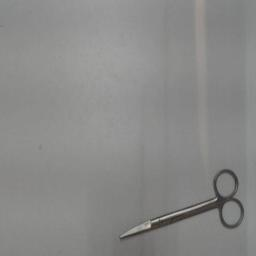Curved Mayo Scissors: (116, 164, 250, 244)
